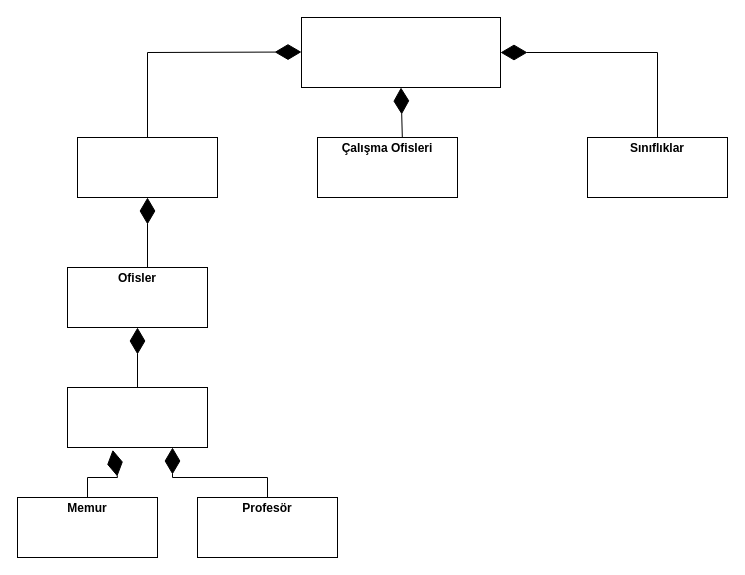
Some shapes in this 745 by 575 pixel diagram are drawn without their labels. Here are the shapes that lost their labels. From the top down, the box of each, then its label:
(300, 16, 500, 88): Üniversite Yönetim Sistemi
(76, 136, 218, 198): Departmanlar
(66, 386, 208, 448): Çalışanlar
